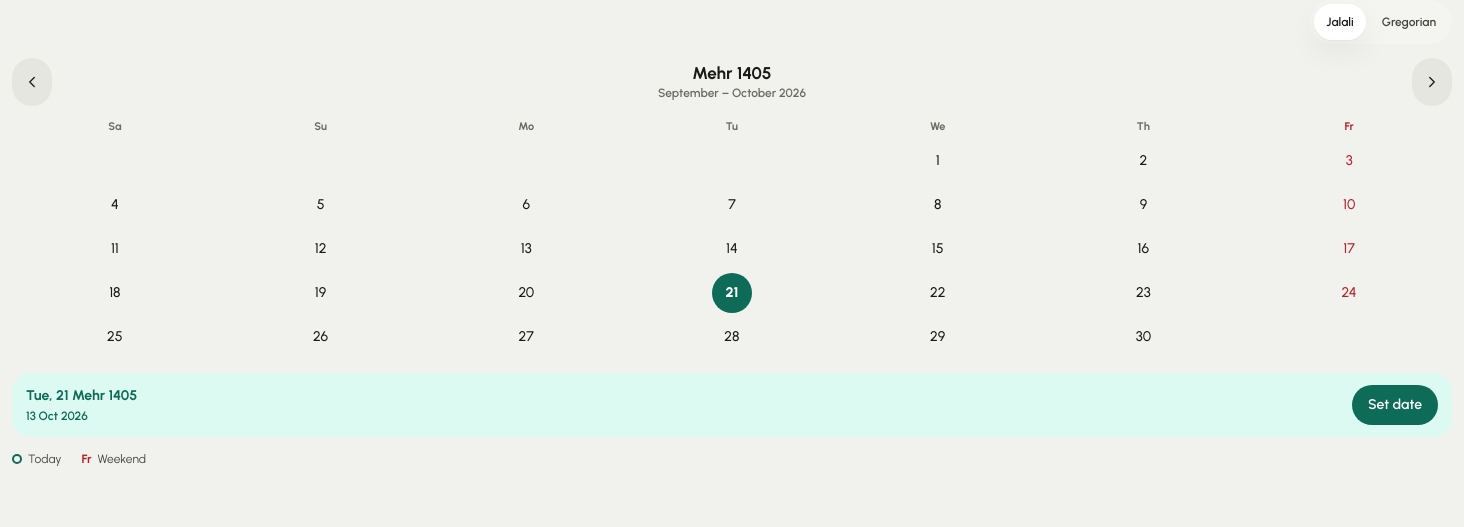
Test: DatePicker › switches between Jalali and Gregorian, keeping the selection
expect the table named "Mehr 1405" is shown: met, box [12, 118, 1452, 359]
Click the radio button labelled "Gregorian". click: {"x": 1409, "y": 22}
box: [1370, 4, 1448, 40]
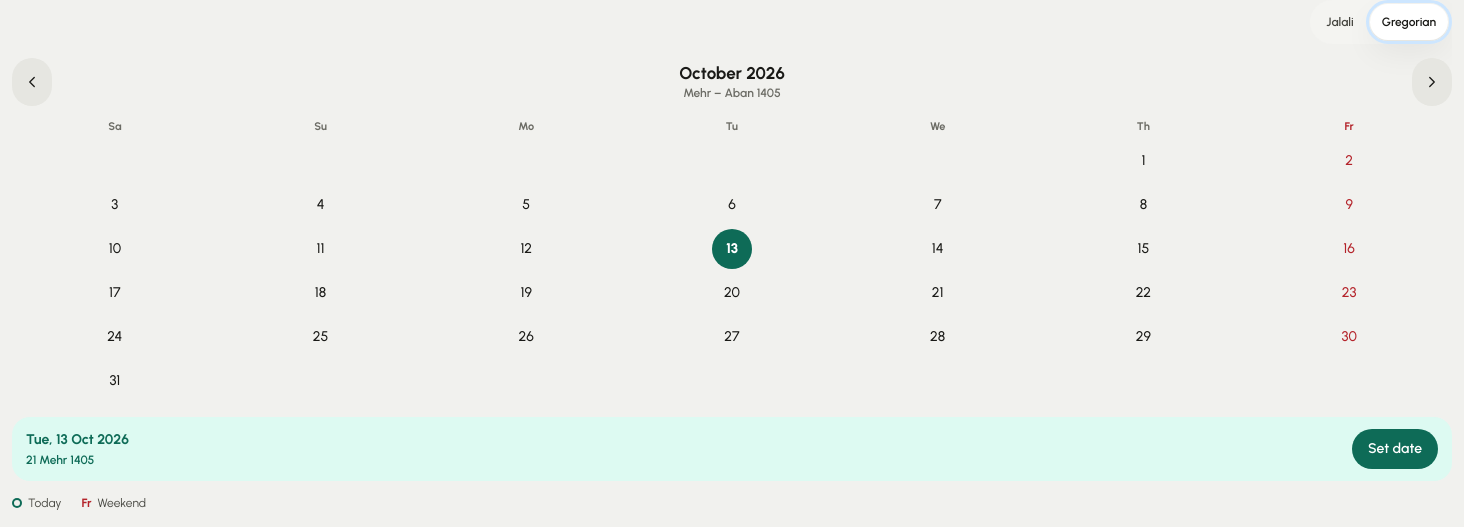
expect the table named "October 2026" is shown: met, box [12, 118, 1452, 403]
expect the text "Tue, 13 Oct 2026" is shown: met, box [26, 430, 129, 450]
expect the text "21 Mehr 1405" is shown: met, box [26, 453, 94, 467]
